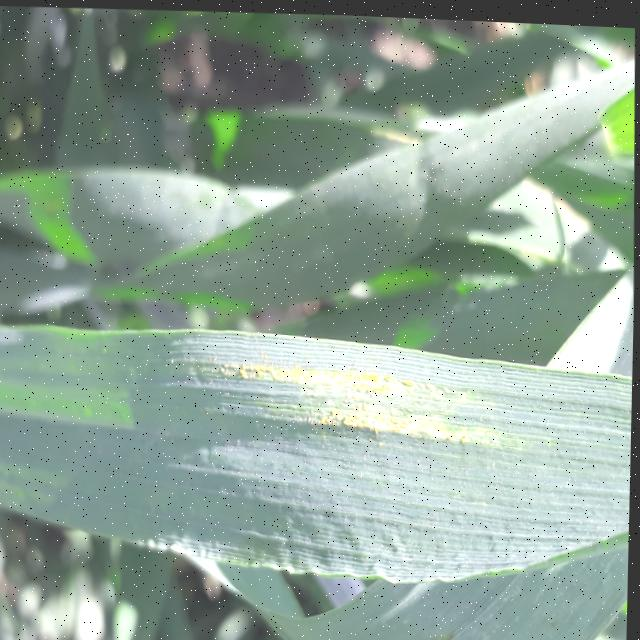yellow_rust: (108, 313, 575, 591), (359, 101, 438, 167)
